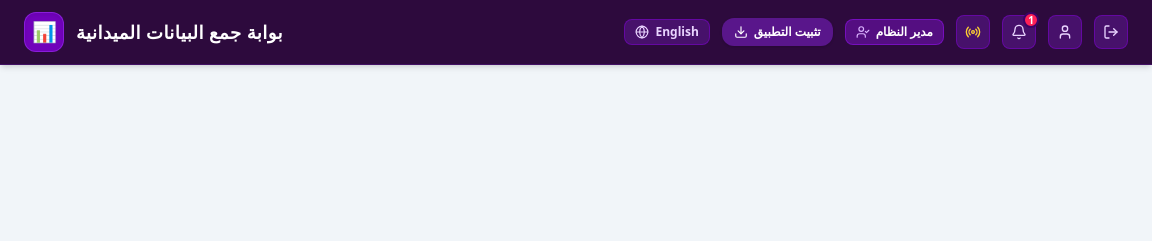
Test: TopNavbar Component › displays notifications menu with unread badge and handles bell click
Expected: the text "1" is shown, [1023,12,1039,28]
What coordinates should you click on to do the following:
click the button "1"
I would click on:
 (1019, 32)
Its box is [1002,15,1036,49].
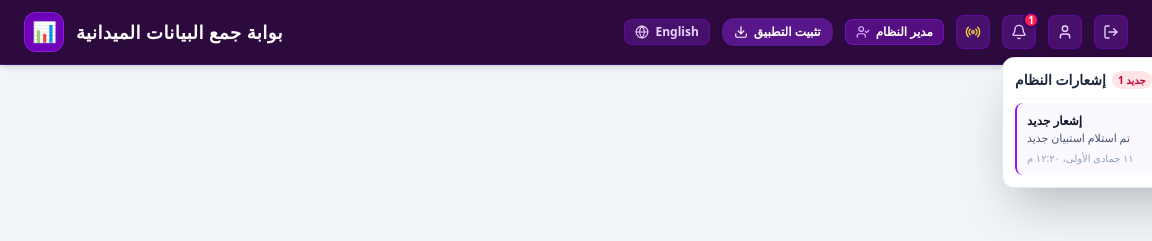
Result: the text "إشعارات النظام" is shown at [1015,70,1106,90]
Result: the text "إشعار جديد" is shown at [1027,113,1082,129]
Result: the text "تم استلام استبيان جديد" is shown at [1027,130,1130,145]
